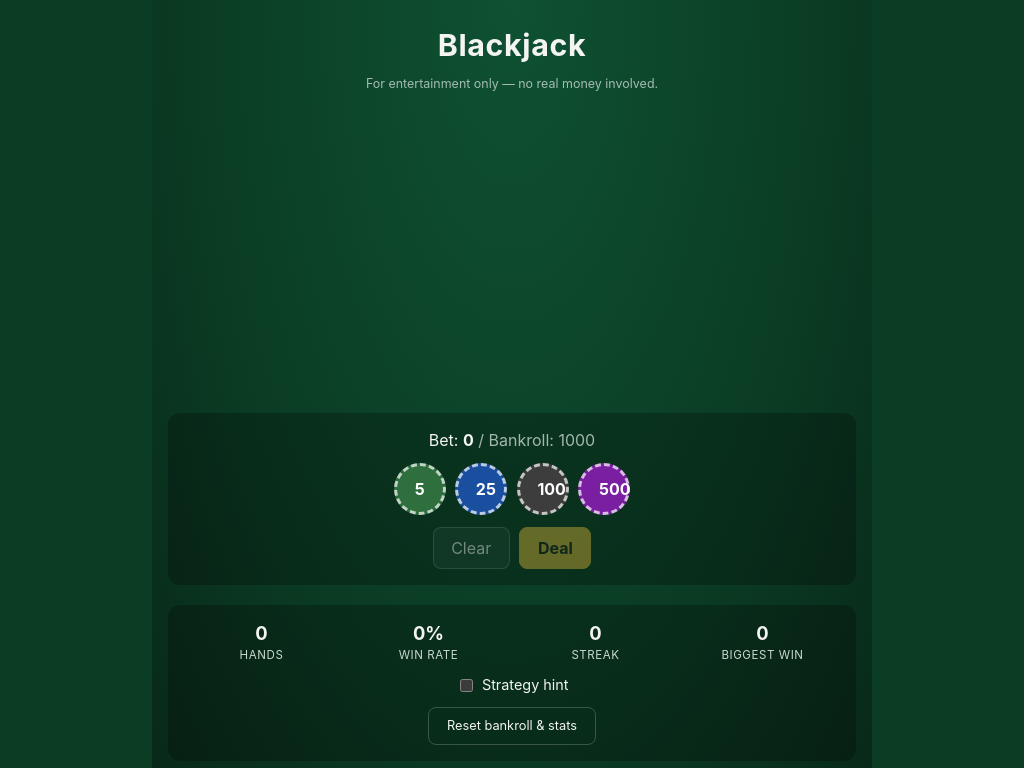
Test: App › disables chips that would exceed the bankroll
Click the button "500": point(604, 489) [578,463,630,515]
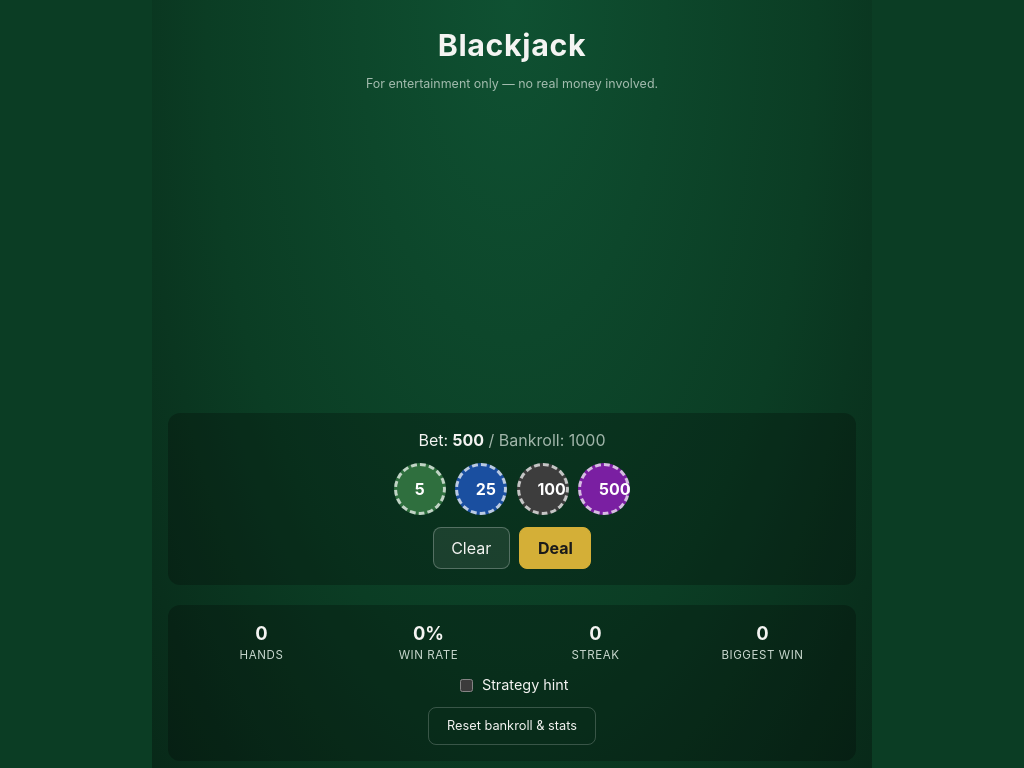
Click the button "500": point(604, 489) [578,463,630,515]
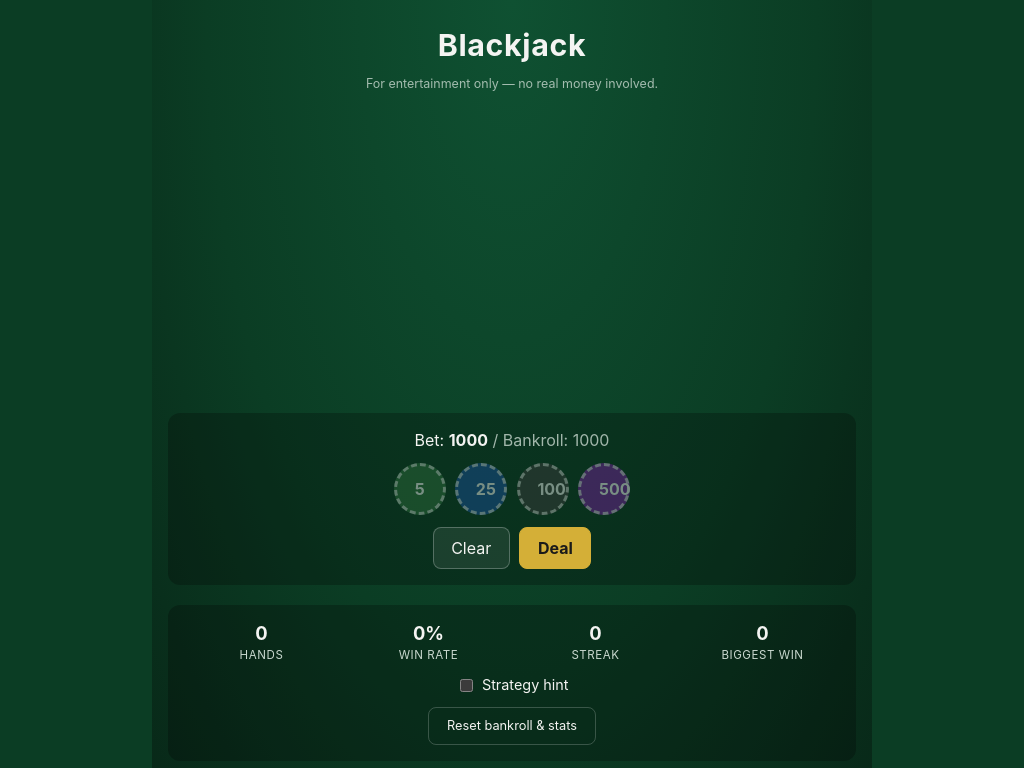
Expected: the button "500" is disabled, [578,463,630,515]
